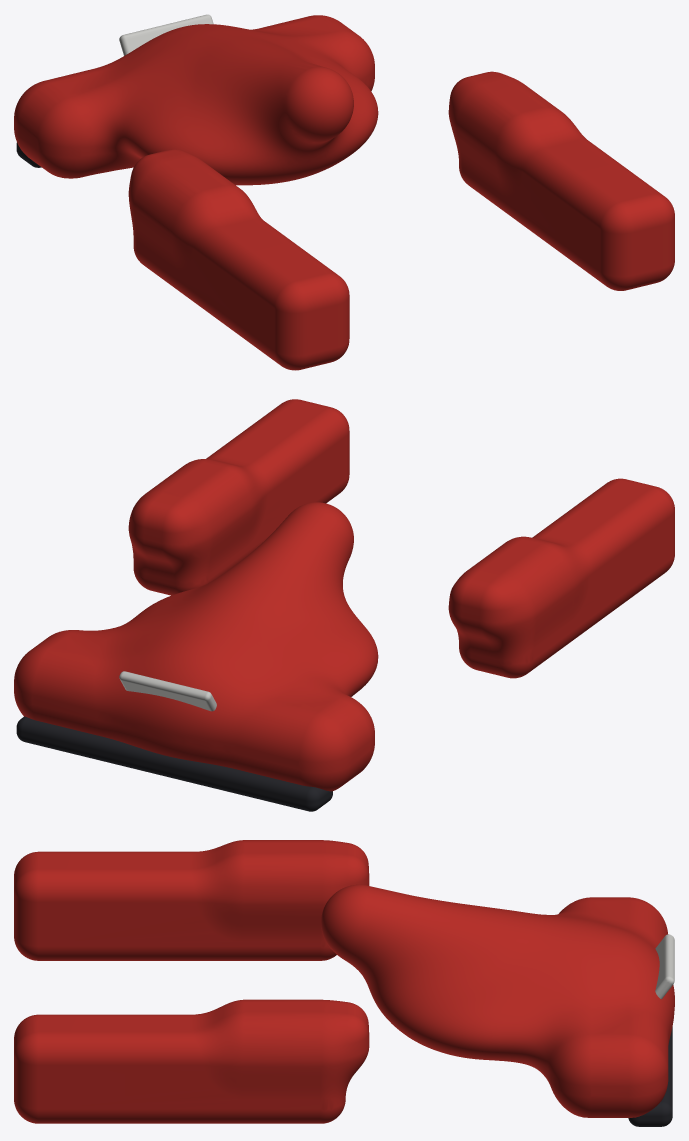
Rendered from classic.glb.
The picture shows the model from 3 angles, top to bottom: view 1: azimuth 30°, elevation 25°; view 2: azimuth 150°, elevation 25°; view 3: azimuth 270°, elevation 25°; orthographic projection. The views are drawn at different scales.
Parts seen in each view (by area): view 1: SidePods, Nose, NumberPlate; view 2: Nose, SidePods, Splitter, NumberPlate; view 3: SidePods, Nose, Splitter, NumberPlate.
Boxes of the visible parts, x1,y1,x2,y2 form: SidePods: (128, 71, 674, 370); Nose: (14, 15, 378, 185); NumberPlate: (119, 14, 213, 55); Nose: (14, 502, 378, 791); SidePods: (128, 399, 674, 678); Splitter: (16, 716, 332, 811); NumberPlate: (119, 671, 216, 711); SidePods: (14, 840, 369, 1123); Nose: (321, 884, 674, 1117); Splitter: (628, 1027, 672, 1126); NumberPlate: (655, 934, 674, 999).
Size of the model in its own units: 1.06 by 0.41 by 1.47.
